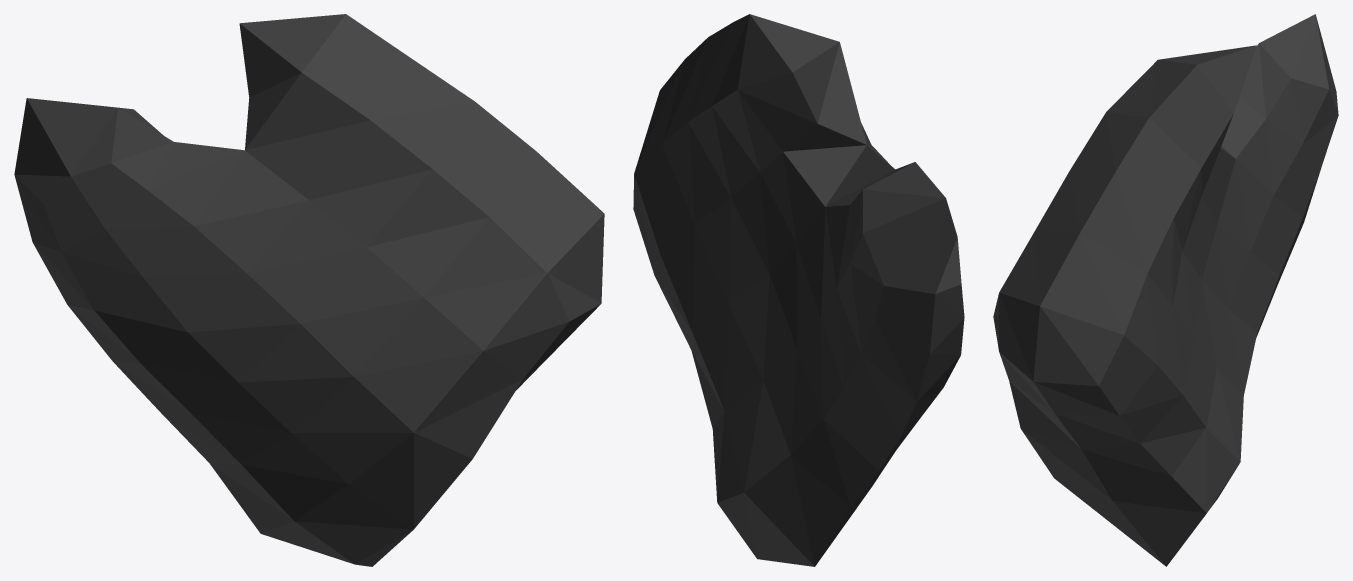
3 views of the same model, side by side, from view 1: azimuth 30°, elevation 25°; view 2: azimuth 150°, elevation 25°; view 3: azimuth 270°, elevation 25° (orthographic). The views are drawn at different scales.
Parts seen in each view (by area): view 1: world; view 2: world; view 3: world.
Part boxes in pixels (x1,y1,x2,y2): world: (14, 14, 604, 566); world: (633, 14, 964, 566); world: (993, 14, 1338, 566).
Bounding box in the file's own units: 0.0317 × 0.0384 × 0.0241.
Materials: 1 (1 with a texture image).
